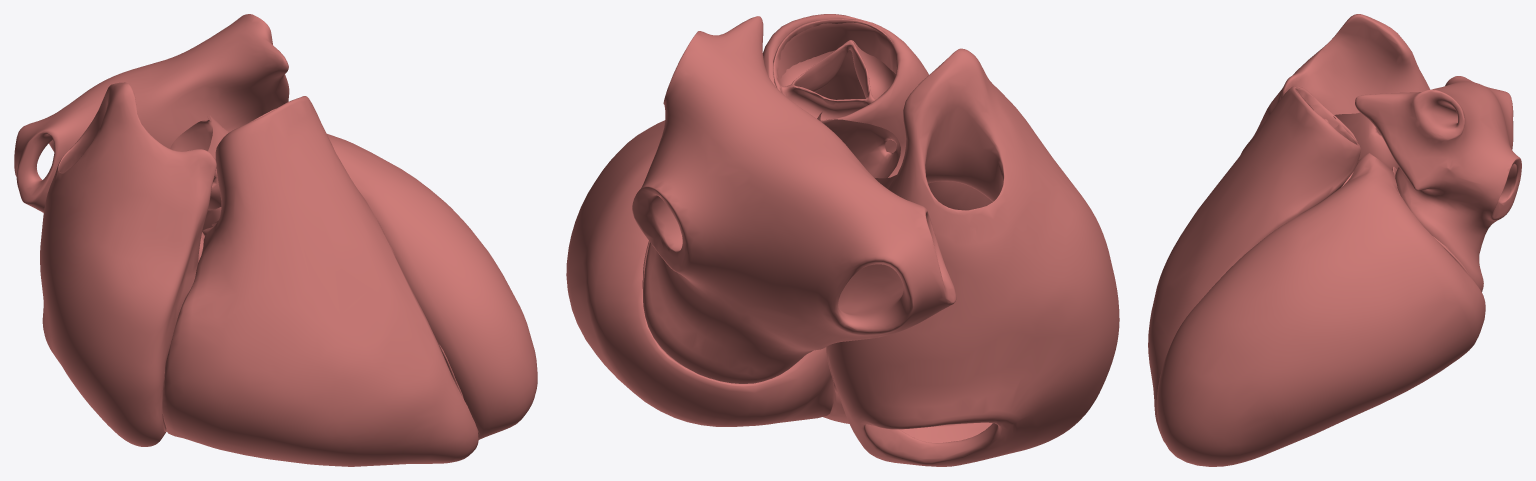
File: hra-heart.lite.glb
The picture shows the model from 3 angles, left to right: view 1: azimuth 30°, elevation 25°; view 2: azimuth 150°, elevation 25°; view 3: azimuth 270°, elevation 25°; orthographic projection. The views are drawn at different scales.
Visible parts, largest first — view 1: VH_M_heart_right_ventricle, VH_M_right_cardiac_atrium, VH_M_heart_left_ventricle, VH_M_left_cardiac_atrium, VH_M_aortic_valve; view 2: VH_M_left_cardiac_atrium, VH_M_right_cardiac_atrium, VH_M_heart_left_ventricle, VH_M_heart_right_ventricle, VH_M_pulmonary_valve, VH_M_aortic_valve; view 3: VH_M_heart_left_ventricle, VH_M_heart_right_ventricle, VH_M_left_cardiac_atrium, VH_M_right_cardiac_atrium, VH_M_aortic_valve.
Boxes of the visible parts, x1,y1,x2,y2 form: VH_M_heart_right_ventricle: (162,96,478,466); VH_M_right_cardiac_atrium: (40,82,216,446); VH_M_heart_left_ventricle: (202,134,537,439); VH_M_left_cardiac_atrium: (14,14,289,212); VH_M_aortic_valve: (170,114,229,210); VH_M_left_cardiac_atrium: (632,16,956,383); VH_M_right_cardiac_atrium: (826,48,1119,466); VH_M_heart_left_ventricle: (566,120,833,426); VH_M_heart_right_ventricle: (763,14,928,423); VH_M_pulmonary_valve: (773,19,895,119); VH_M_aortic_valve: (817,112,900,188); VH_M_heart_left_ventricle: (1156,153,1485,466); VH_M_heart_right_ventricle: (1148,86,1360,442); VH_M_left_cardiac_atrium: (1355,76,1521,291); VH_M_right_cardiac_atrium: (1240,14,1429,154); VH_M_aortic_valve: (1334,112,1398,169).
Bounding box in the file's own units: 0.1243 × 0.1054 × 0.1052.
